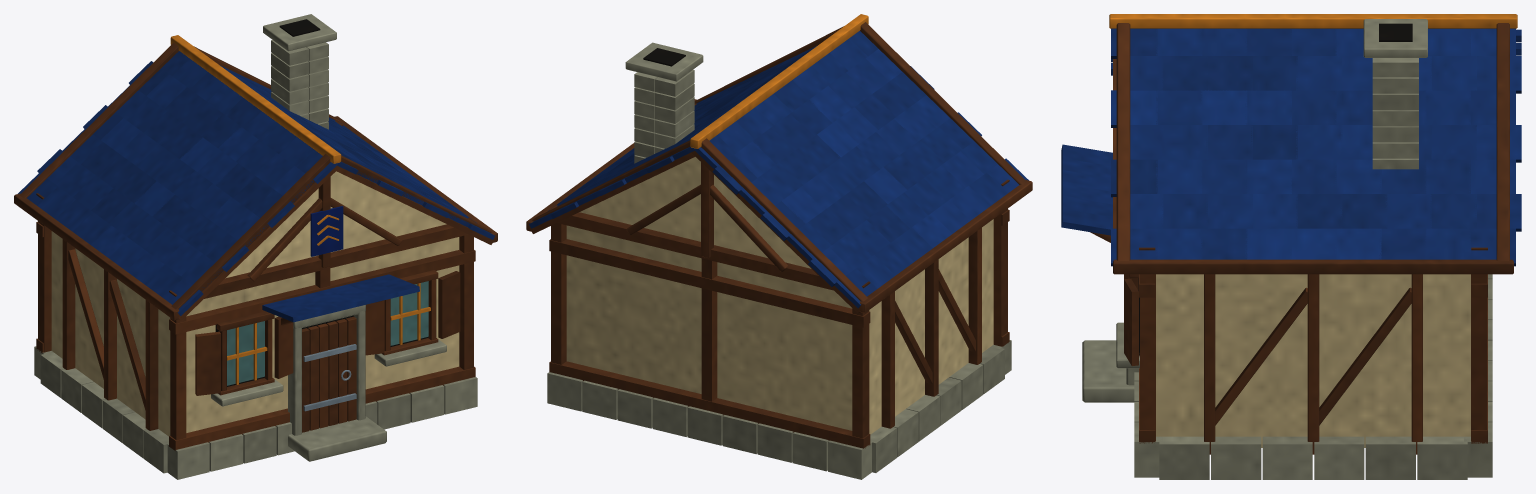
The model's file is KOD_House.fbx.
3 renders of one model, left to right at view 1: azimuth 30°, elevation 25°; view 2: azimuth 150°, elevation 25°; view 3: azimuth 270°, elevation 25°, orthographic. The views are drawn at different scales.
Visible parts, largest first — view 1: KOD_House_LOD0; view 2: KOD_House_LOD0; view 3: KOD_House_LOD0.
Boxes of the visible parts, left/top/right/bottom form: KOD_House_LOD0: left=14, top=14, right=497, bottom=479; KOD_House_LOD0: left=526, top=14, right=1032, bottom=479; KOD_House_LOD0: left=1061, top=14, right=1521, bottom=479.
Size of what is drawn, in the model's own units: 6.54 by 6.18 by 6.42.
9 materials, 9 textured.
